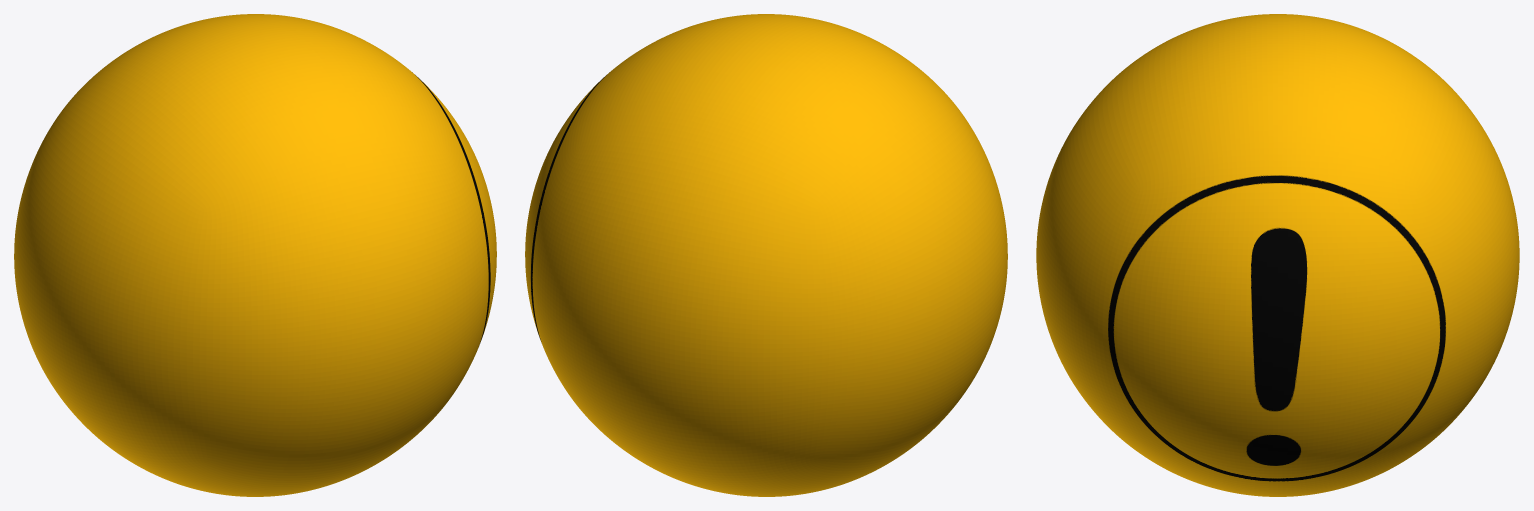
File: yellow_！.fbx
The picture shows the model from 3 angles, left to right: view 1: azimuth 30°, elevation 25°; view 2: azimuth 150°, elevation 25°; view 3: azimuth 270°, elevation 25°; orthographic projection.
Parts seen in each view (by area): view 1: Roundcube.003; view 2: Roundcube.003; view 3: Roundcube.003.
Part boxes in pixels (bbox=[...]): Roundcube.003: bbox=[14, 14, 496, 496]; Roundcube.003: bbox=[525, 14, 1007, 496]; Roundcube.003: bbox=[1036, 14, 1519, 496].
Bounding box in the file's own units: 479 × 479 × 479.
